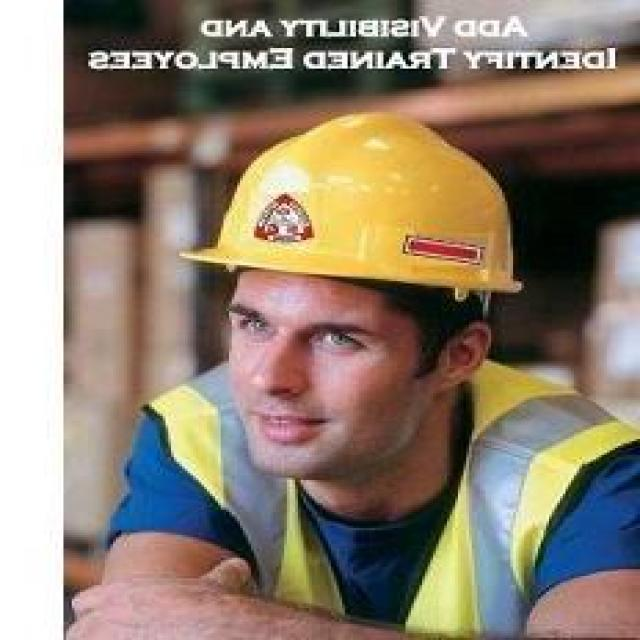Reflective-Jacket: (132, 370, 634, 640)
Safety-Helmet: (180, 110, 532, 302)
